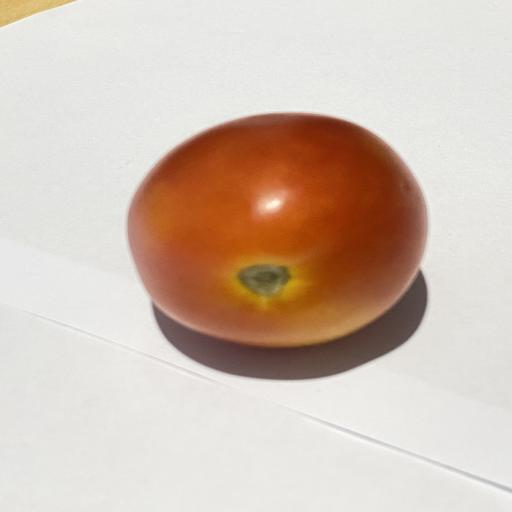ripe: (128, 113, 427, 348)
